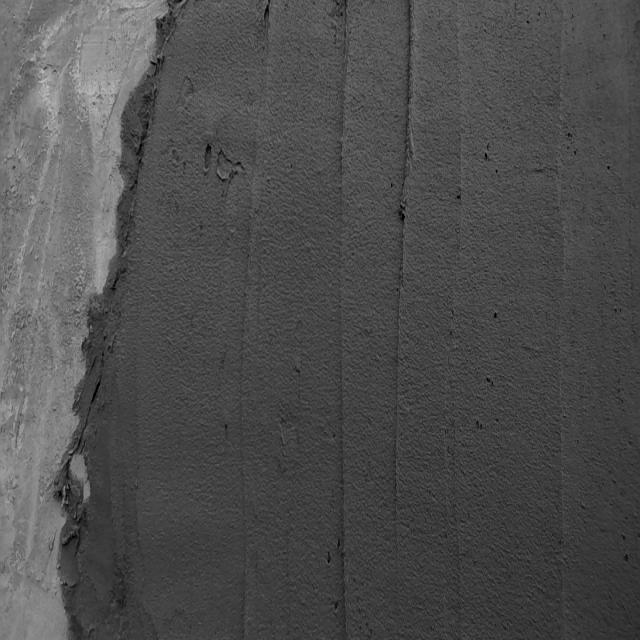trowels marks: (387, 3, 419, 514), (339, 4, 351, 632)
